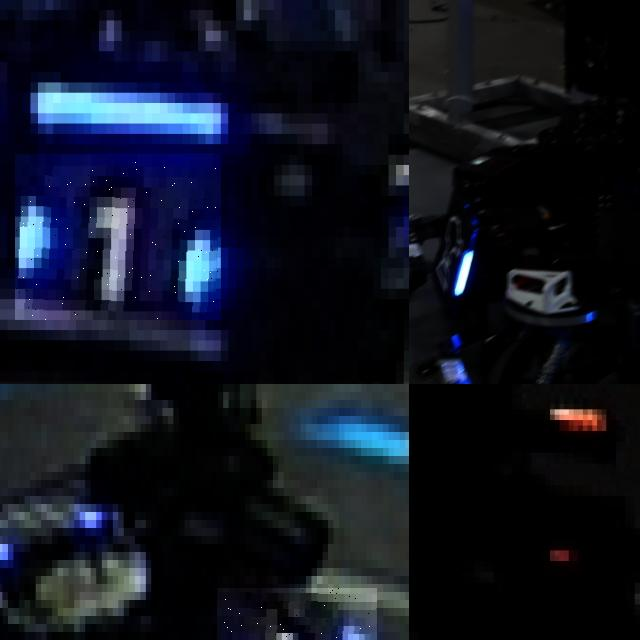B1: (15, 154, 221, 320), (217, 588, 377, 640)
Bs: (435, 201, 478, 298)
